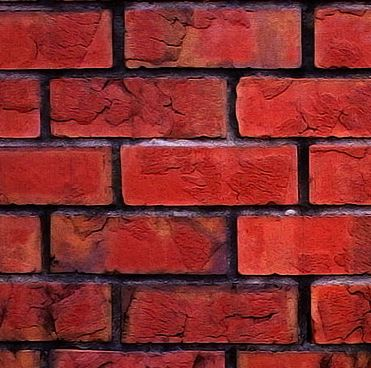brick: (47, 76, 228, 142), (51, 210, 230, 276), (123, 5, 302, 69), (118, 144, 300, 206), (126, 286, 301, 347), (235, 75, 371, 140), (235, 214, 371, 276), (1, 143, 114, 204), (1, 10, 114, 70), (1, 282, 116, 340), (306, 143, 371, 205), (310, 284, 371, 346), (312, 5, 371, 69), (1, 213, 43, 272), (1, 78, 41, 136)
